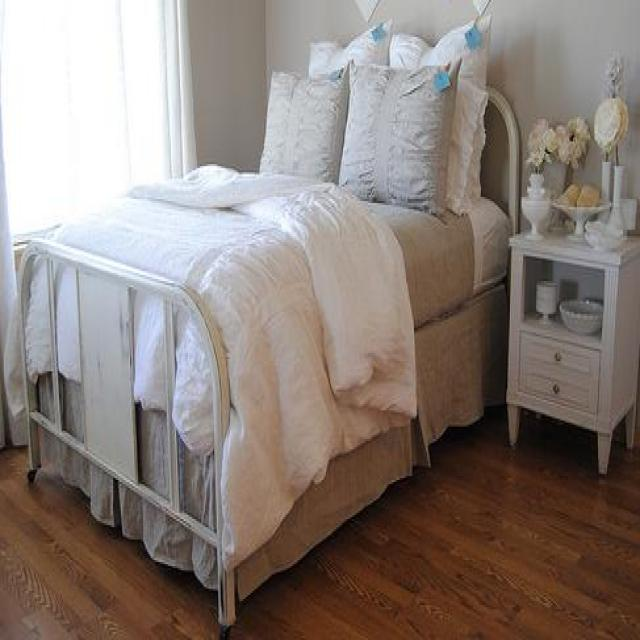bed: (21, 26, 525, 640)
